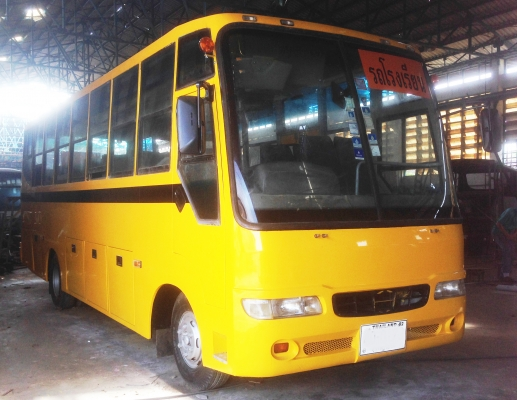bus: (18, 12, 467, 387)
